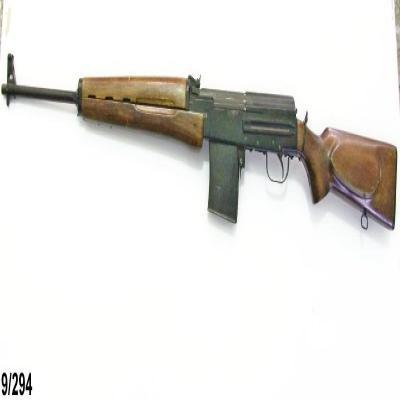weapon: (0, 51, 400, 230)
